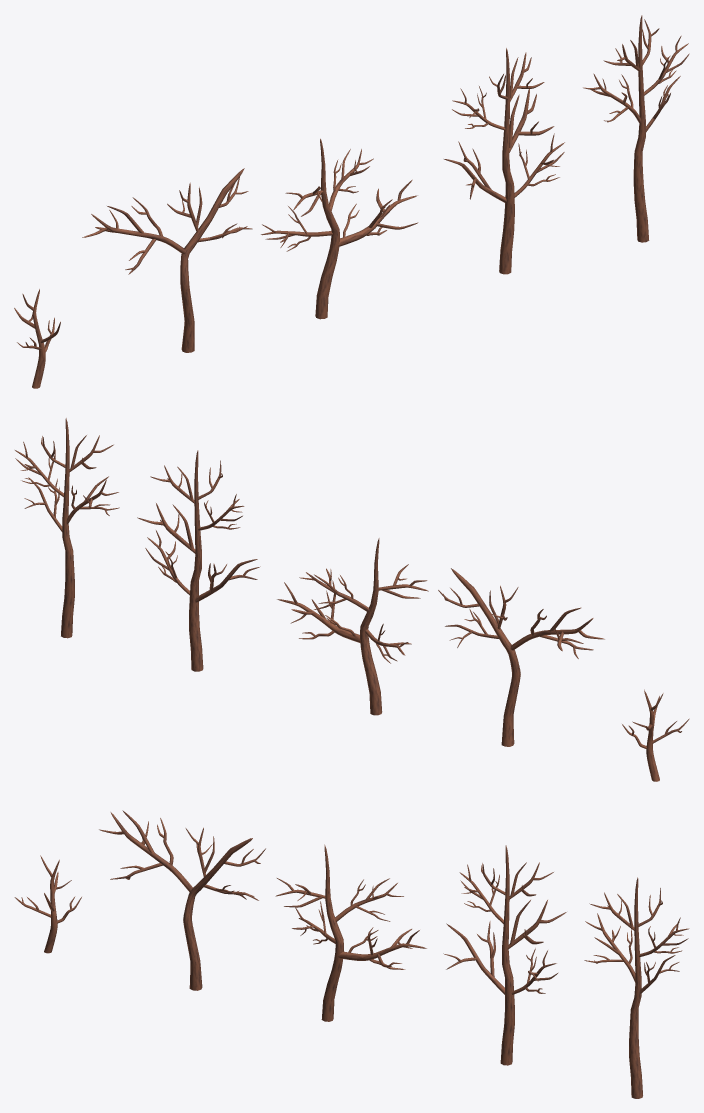
Rendered from dead-a.glb.
3 views of the same model, one above another, from view 1: azimuth 30°, elevation 25°; view 2: azimuth 150°, elevation 25°; view 3: azimuth 330°, elevation 25° (orthographic). The views are drawn at different scales.
Visible parts, largest first — view 1: DeadTree_2, DeadTree_3, DeadTree_4, DeadTree_1, DeadTree_5; view 2: DeadTree_2, DeadTree_3, DeadTree_1, DeadTree_4, DeadTree_5; view 3: DeadTree_2, DeadTree_3, DeadTree_1, DeadTree_4, DeadTree_5.
Part boxes in pixels (left/top/right/bottom): DeadTree_2: left=444, top=48, right=564, bottom=274; DeadTree_3: left=261, top=138, right=418, bottom=319; DeadTree_4: left=82, top=168, right=252, bottom=352; DeadTree_1: left=583, top=15, right=689, bottom=242; DeadTree_5: left=14, top=289, right=60, bottom=388; DeadTree_2: left=137, top=450, right=260, bottom=671; DeadTree_3: left=277, top=538, right=428, bottom=715; DeadTree_1: left=15, top=418, right=119, bottom=638; DeadTree_4: left=438, top=568, right=604, bottom=746; DeadTree_5: left=622, top=689, right=689, bottom=781; DeadTree_2: left=443, top=845, right=566, bottom=1065; DeadTree_3: left=275, top=844, right=426, bottom=1021; DeadTree_1: left=584, top=877, right=689, bottom=1098; DeadTree_4: left=99, top=810, right=265, bottom=990; DeadTree_5: left=14, top=855, right=81, bottom=953.
Size of the model in its own units: 19.55 by 6.2 by 1.72.
1 material, 1 textured.
